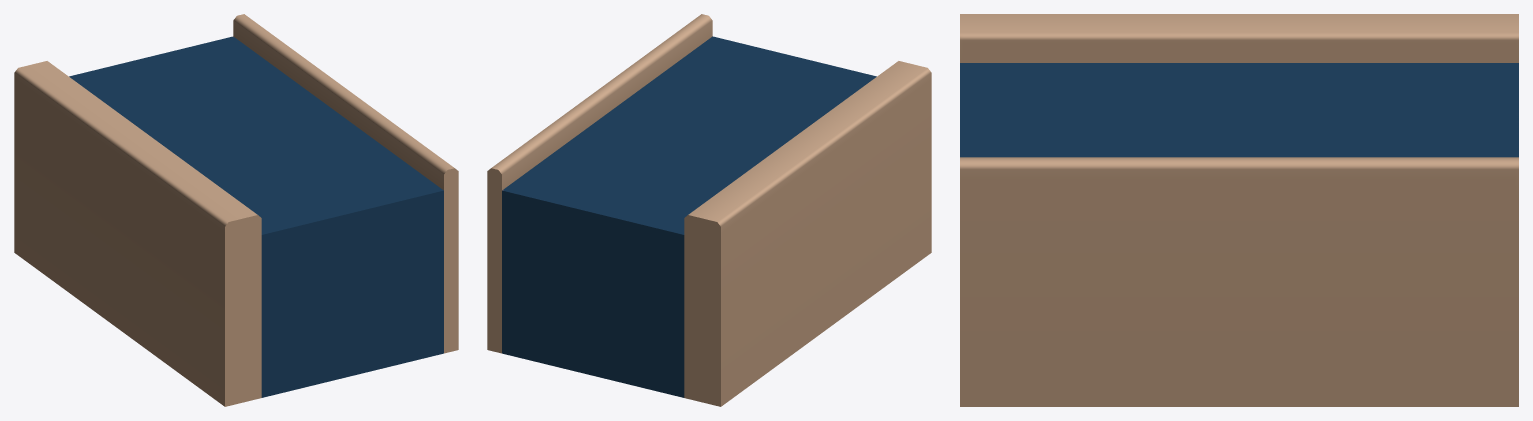
Rendered from PokemonMonster_Landing_RoadStraight3.fbx.
The picture shows the model from 3 angles, left to right: view 1: azimuth 30°, elevation 25°; view 2: azimuth 150°, elevation 25°; view 3: azimuth 270°, elevation 25°; orthographic projection. The views are drawn at different scales.
Visible parts, largest first — view 1: polySurface4, polySurface5, polySurface6; view 2: polySurface4, polySurface5, polySurface6; view 3: polySurface6, polySurface4, polySurface5.
Boxes of the visible parts, <box> form: polySurface4: <box>69,36,443,397</box>; polySurface5: <box>14,61,261,406</box>; polySurface6: <box>233,14,458,353</box>; polySurface4: <box>502,36,876,397</box>; polySurface5: <box>684,61,931,406</box>; polySurface6: <box>487,14,712,353</box>; polySurface6: <box>960,157,1518,406</box>; polySurface4: <box>960,63,1518,157</box>; polySurface5: <box>960,14,1518,62</box>.
Size of the model in its own units: 320 by 241 by 500.
1 material, 1 textured.
